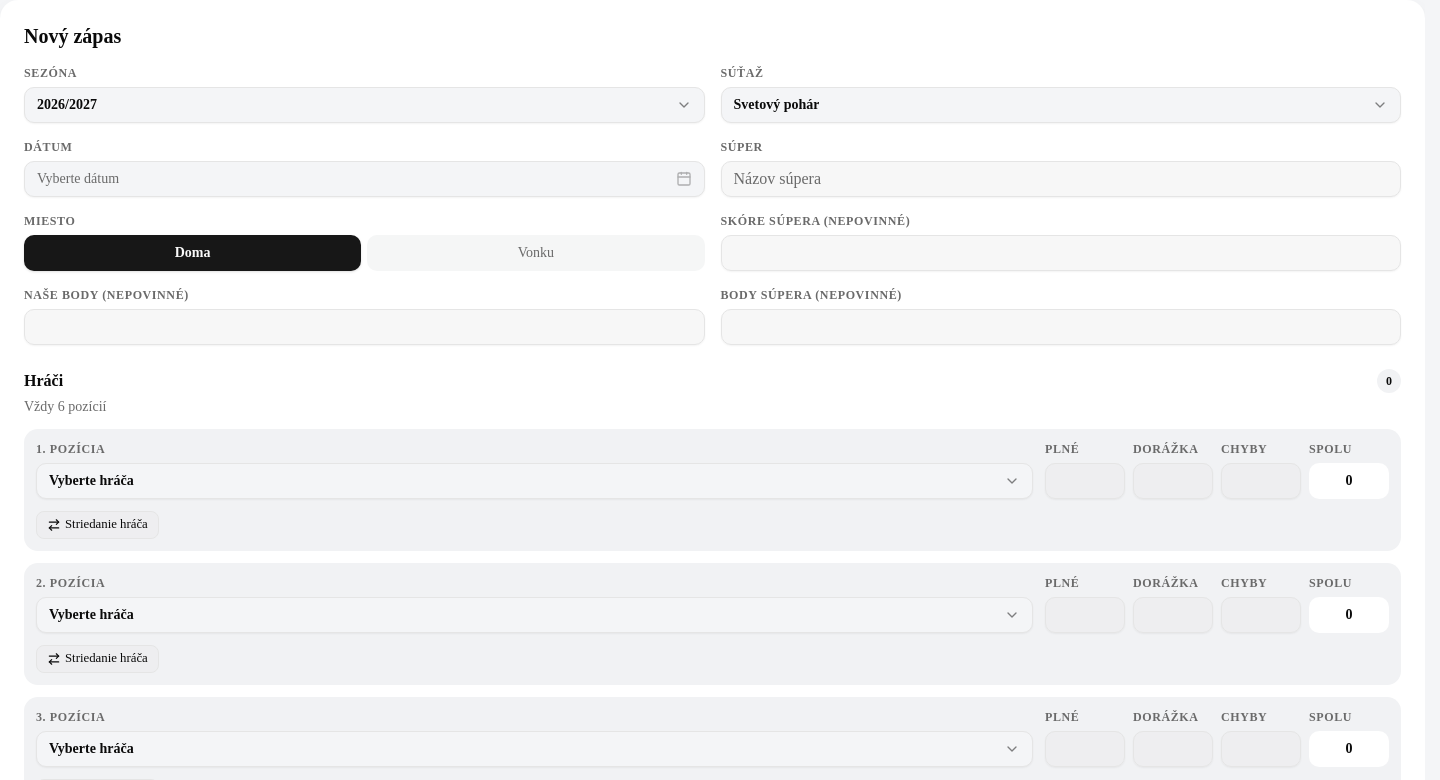
Scenario: substitutions › hides the button once two cards hold a substitution each
Click the button "Striedanie hráča" below "1. pozícia" at (97, 525), box left=36, top=511, right=159, bottom=539
(page scrolled)
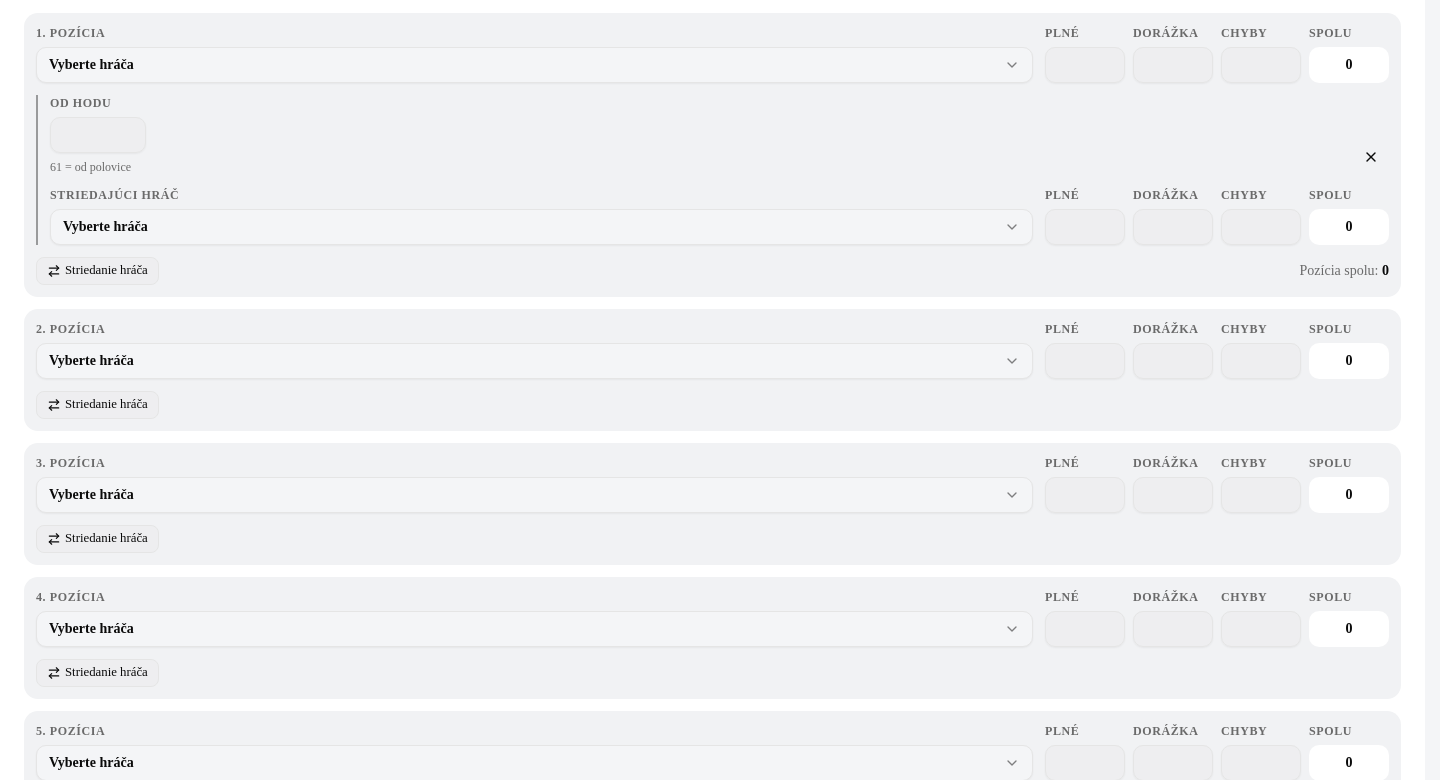
Click the button "Striedanie hráča" below "2. pozícia" at (97, 405), box left=36, top=391, right=159, bottom=419
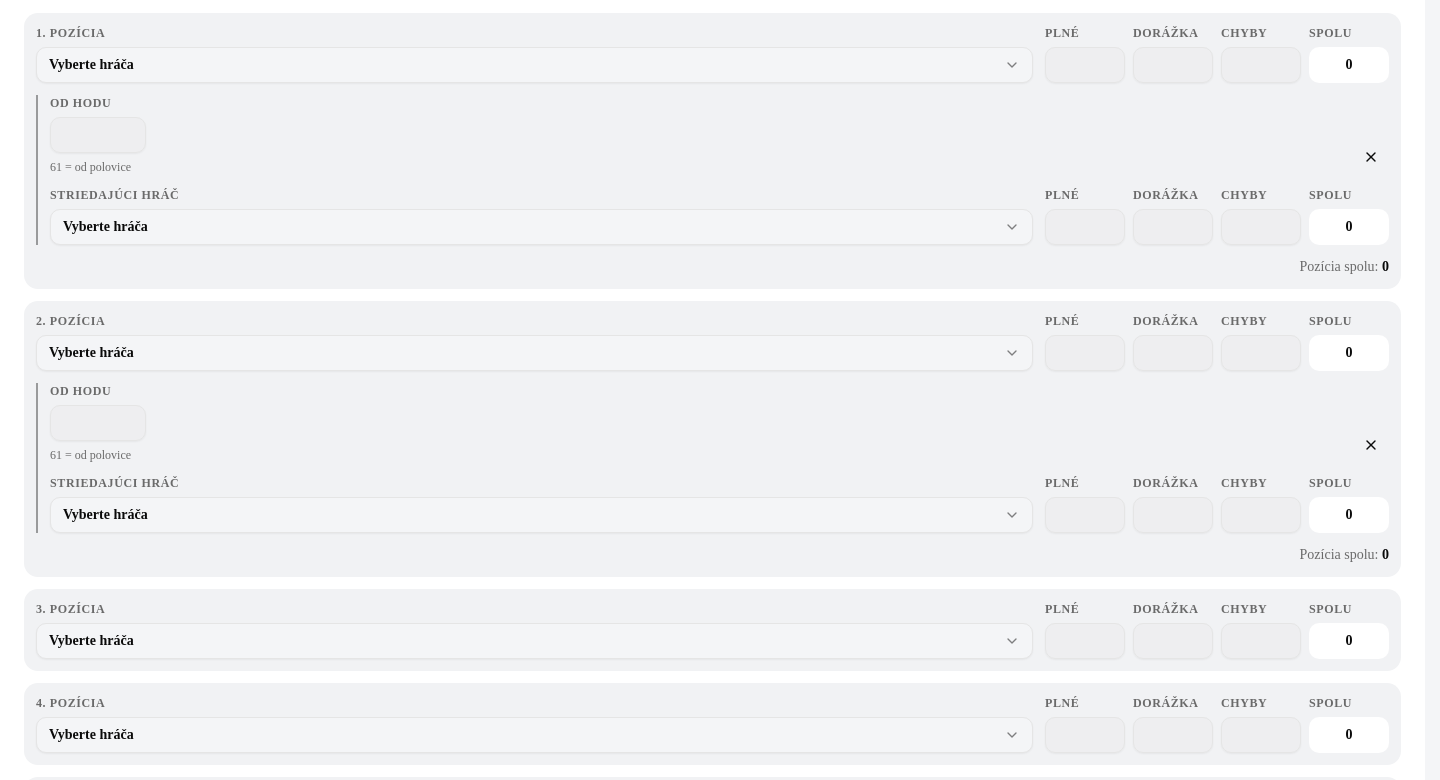
Result: no buttons "Striedanie hráča" are shown
